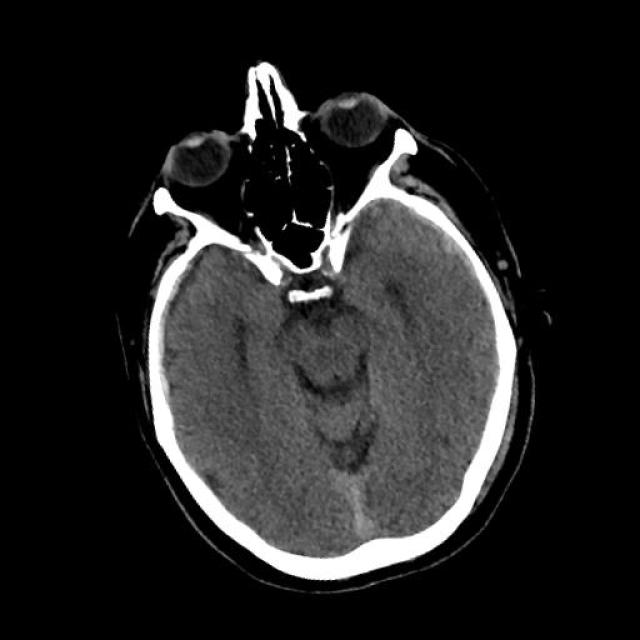Subdural: (94, 233, 244, 412), (397, 178, 521, 317)
